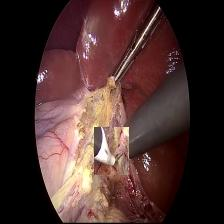Grasper: (104, 3, 164, 93), (94, 127, 129, 175)
